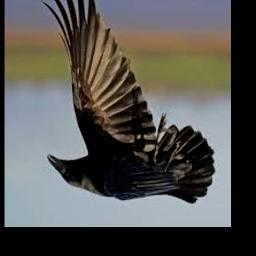Crow: (42, 0, 215, 203)
